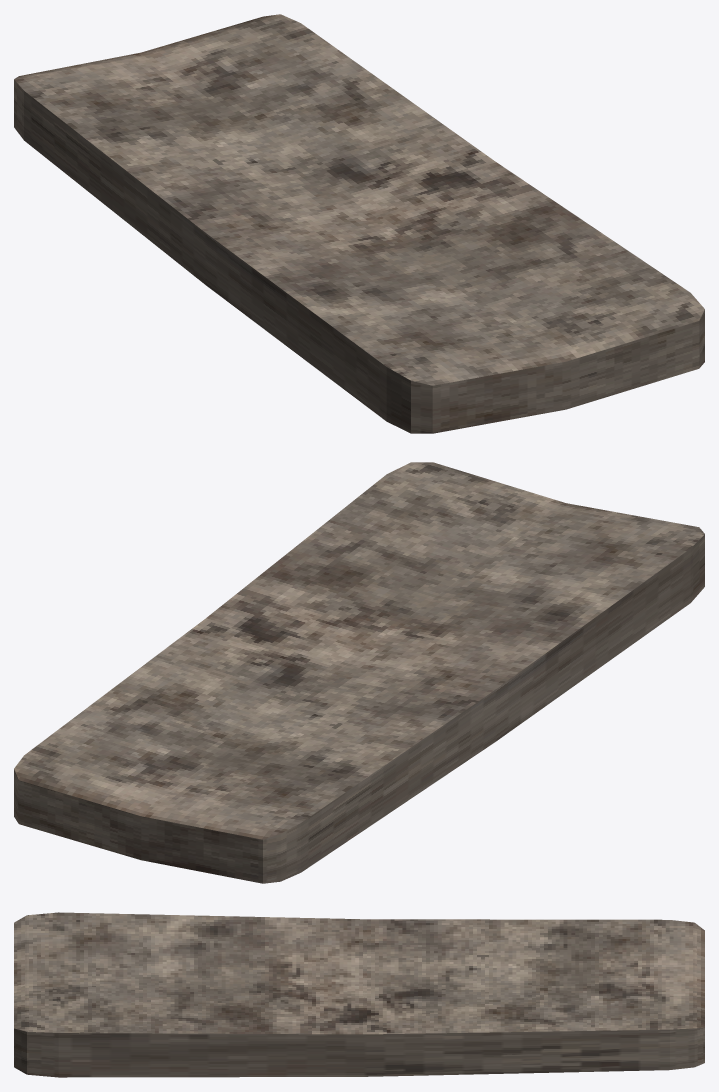
File: matress.fbx
3 renders of one model, top to bottom at view 1: azimuth 30°, elevation 25°; view 2: azimuth 150°, elevation 25°; view 3: azimuth 270°, elevation 25°, orthographic. The views are drawn at different scales.
Parts seen in each view (by area): view 1: Cube; view 2: Cube; view 3: Cube.
Boxes of the visible parts, bbox=[...] form: Cube: bbox=[14, 14, 704, 433]; Cube: bbox=[14, 462, 704, 883]; Cube: bbox=[14, 912, 704, 1077].
Bounding box in the file's own units: 231 × 47.73 × 560.
Materials: 1 (1 with a texture image).
